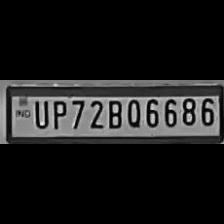2: (84, 96, 104, 130)
6: (160, 95, 178, 127), (197, 94, 214, 125), (142, 95, 158, 127)
7: (68, 97, 86, 129)
8: (178, 95, 196, 127)
B: (104, 97, 122, 129)
P: (48, 96, 68, 130)
Q: (124, 96, 142, 128)
U: (31, 96, 49, 130)
